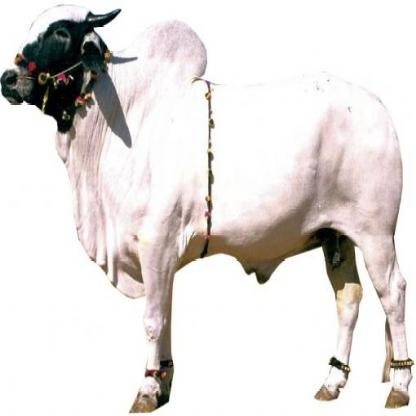cow: (1, 8, 411, 409)
